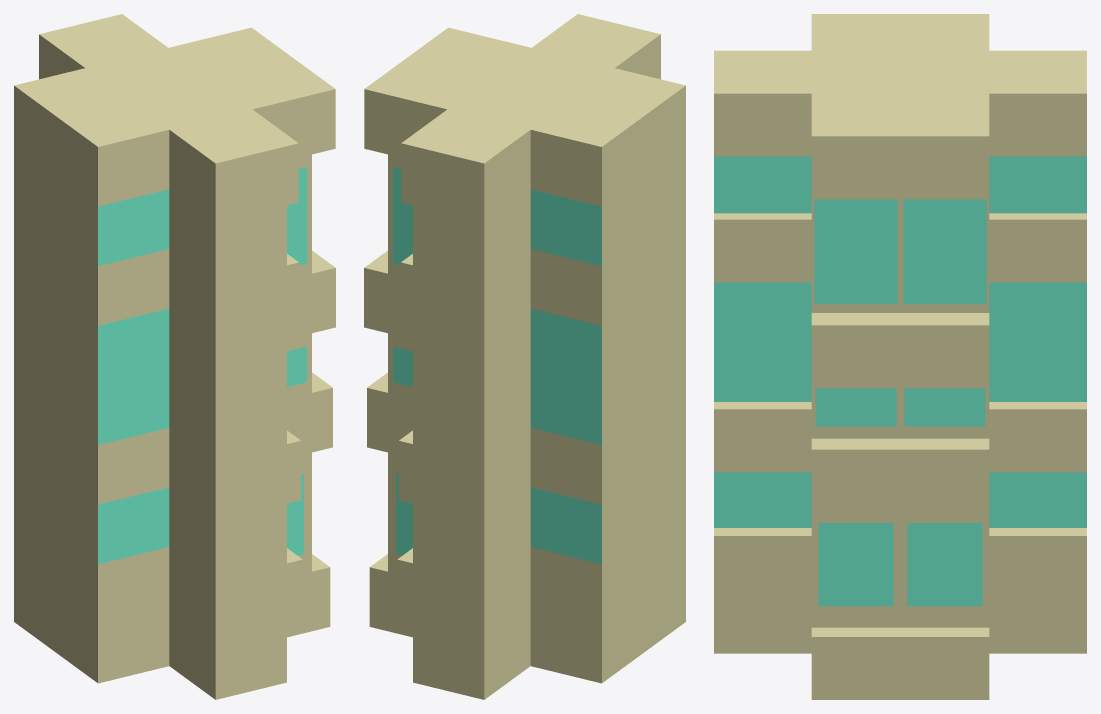
File: Edificios1.fbx
3 renders of one model, left to right at view 1: azimuth 30°, elevation 25°; view 2: azimuth 150°, elevation 25°; view 3: azimuth 270°, elevation 25°, orthographic. The views are drawn at different scales.
Parts seen in each view (by area): view 1: Cube; view 2: Cube; view 3: Cube.
Boxes of the visible parts, left/top/right/bottom form: Cube: left=14, top=14, right=335, bottom=699; Cube: left=364, top=14, right=685, bottom=699; Cube: left=714, top=14, right=1086, bottom=699.
Size of the model in its own units: 668 by 1441 by 860.
